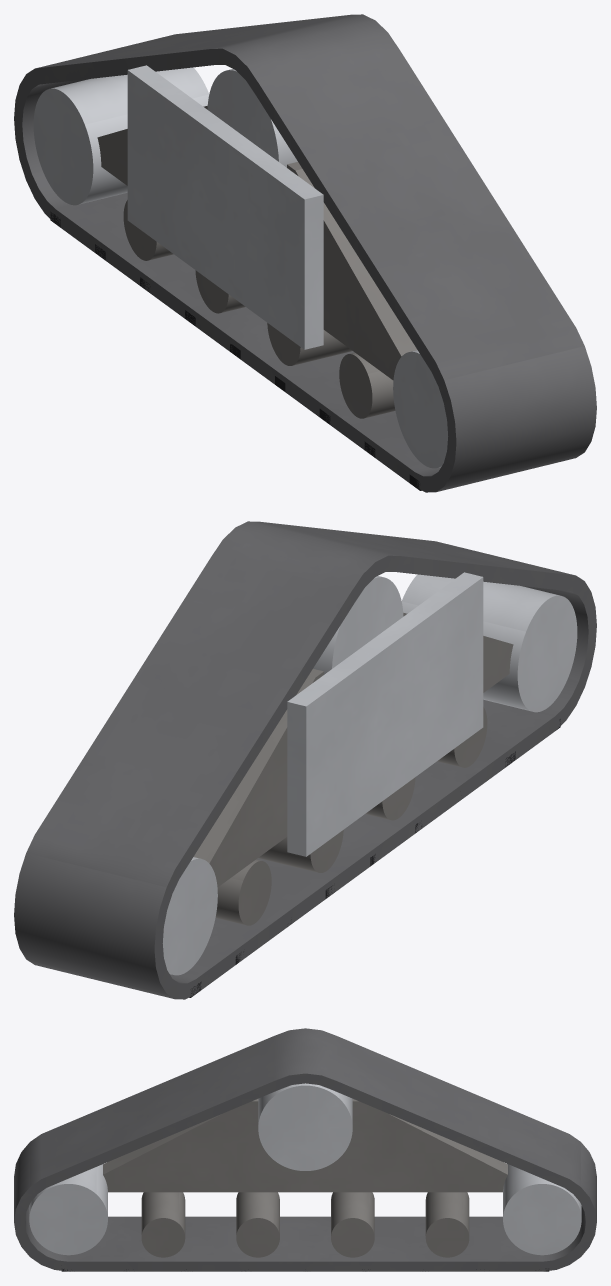
Rendered from rover20_track_unit_s.glb.
3 renders of one model, top to bottom at view 1: azimuth 30°, elevation 25°; view 2: azimuth 150°, elevation 25°; view 3: azimuth 270°, elevation 25°, orthographic. The views are drawn at different scales.
Visible parts, largest first — view 1: track_belt, mount_plate, wheel_idlers, frame, wheel_rollers, wheel_sprocket, track_grousers; view 2: track_belt, mount_plate, wheel_idlers, frame, wheel_rollers, wheel_sprocket; view 3: track_belt, frame, wheel_rollers, wheel_idlers, wheel_sprocket.
Part boxes in pixels (bbox=[...]): track_belt: bbox=[14, 14, 596, 492]; mount_plate: bbox=[127, 65, 323, 349]; wheel_idlers: bbox=[33, 67, 448, 468]; frame: bbox=[97, 105, 417, 380]; wheel_rollers: bbox=[123, 200, 395, 418]; wheel_sprocket: bbox=[207, 69, 297, 167]; track_grousers: bbox=[50, 211, 421, 490]; track_belt: bbox=[14, 521, 596, 999]; mount_plate: bbox=[287, 572, 483, 856]; wheel_idlers: bbox=[162, 574, 577, 975]; frame: bbox=[193, 612, 513, 887]; wheel_rollers: bbox=[215, 707, 487, 925]; wheel_sprocket: bbox=[313, 576, 403, 674]; track_belt: bbox=[14, 1028, 596, 1271]; frame: bbox=[103, 1099, 507, 1192]; wheel_rollers: bbox=[141, 1192, 469, 1257]; wheel_idlers: bbox=[29, 1164, 581, 1255]; wheel_sprocket: bbox=[258, 1083, 352, 1170].
Size of the model in its own units: 0.25 by 0.45 by 1.2.
Materials: 4 (3 with a texture image).
